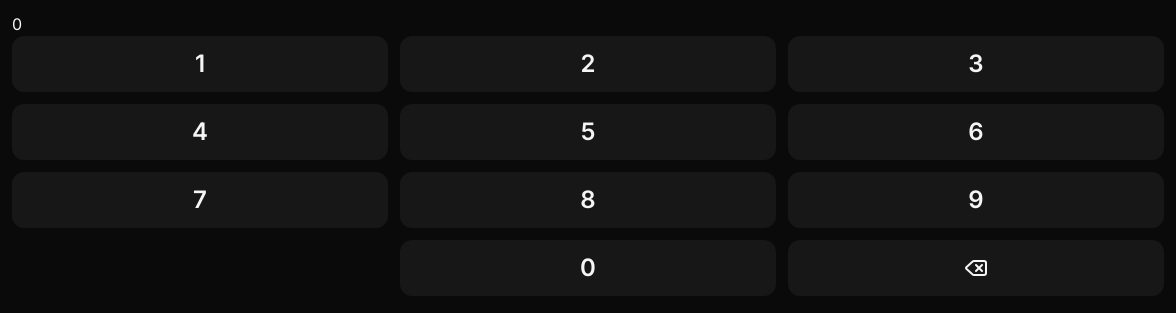
AmountKeypad › replaces a leading zero with the first digit
Click the button named "Enter 5" at (588, 132), box [400,104,776,160]
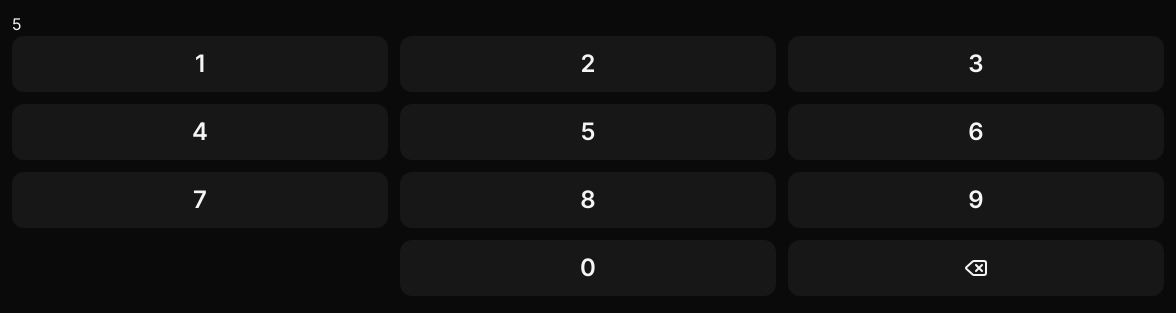
Now the text with test id "value" reads "5", box [12,14,22,34]
